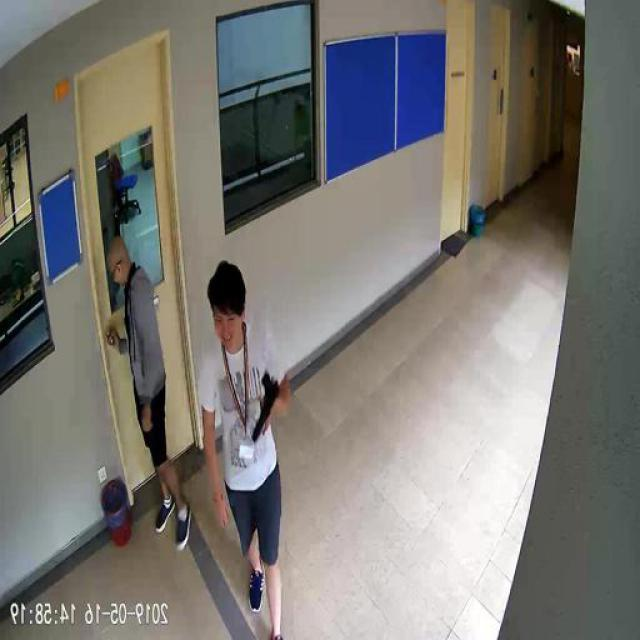weapon: (252, 377, 288, 444)
